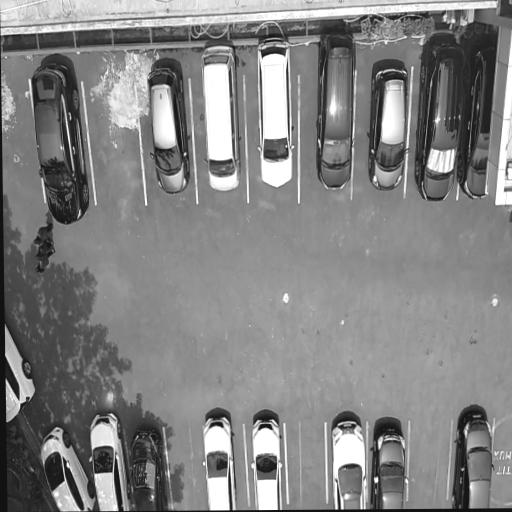Car: (411, 29, 471, 208), (31, 62, 88, 230), (456, 26, 502, 211), (312, 26, 362, 194), (254, 32, 298, 195), (145, 58, 191, 201), (200, 41, 241, 201), (366, 60, 413, 197), (39, 422, 94, 512), (451, 410, 496, 508), (5, 310, 37, 438), (248, 406, 285, 510), (329, 413, 368, 509), (368, 418, 409, 509), (89, 414, 126, 511), (200, 411, 236, 509), (129, 424, 166, 511)
Space Available: (95, 69, 136, 209), (289, 415, 325, 510), (413, 416, 447, 508), (170, 424, 202, 511), (495, 417, 512, 508)
